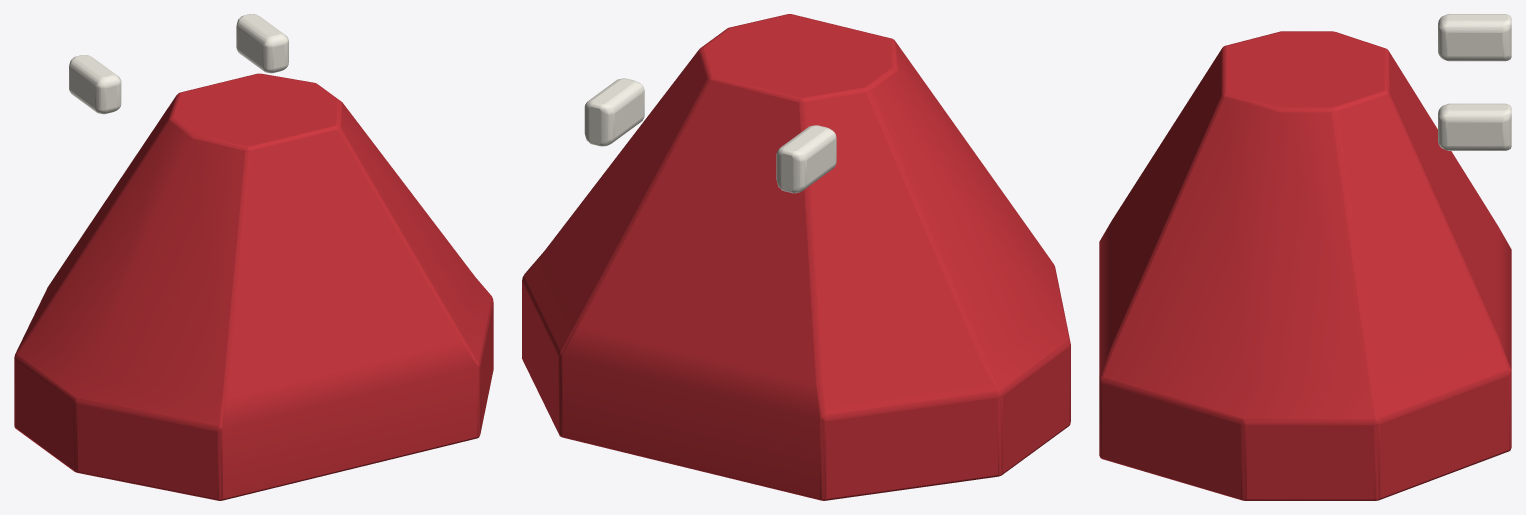
The model's file is AnimalHeadFront_Set06_Voltaic.fbx.
3 renders of one model, left to right at view 1: azimuth 30°, elevation 25°; view 2: azimuth 150°, elevation 25°; view 3: azimuth 270°, elevation 25°, orthographic. The views are drawn at different scales.
Visible parts, largest first — view 1: AnimalHeadFront_Set06_Voltaic; view 2: AnimalHeadFront_Set06_Voltaic; view 3: AnimalHeadFront_Set06_Voltaic.
Boxes of the visible parts, x1,y1,x2,y2 form: AnimalHeadFront_Set06_Voltaic: [14, 14, 493, 500]; AnimalHeadFront_Set06_Voltaic: [522, 14, 1070, 500]; AnimalHeadFront_Set06_Voltaic: [1099, 14, 1511, 500].
Bounding box in the file's own units: 0.36 × 0.2454 × 0.28.
